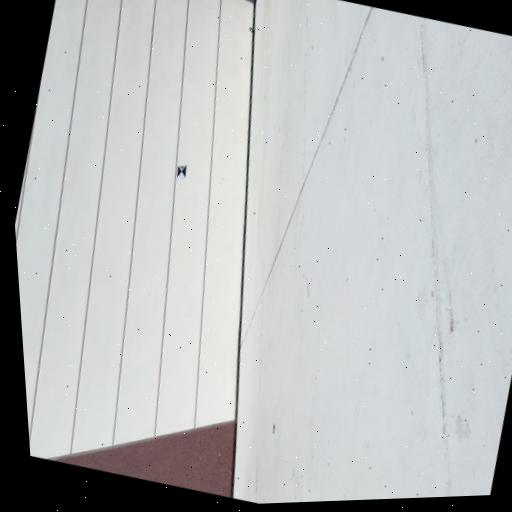target4: (177, 165, 187, 179)
